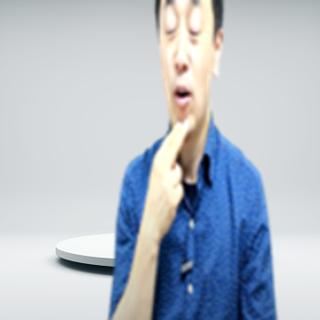DHAVE: (131, 119, 195, 243)
